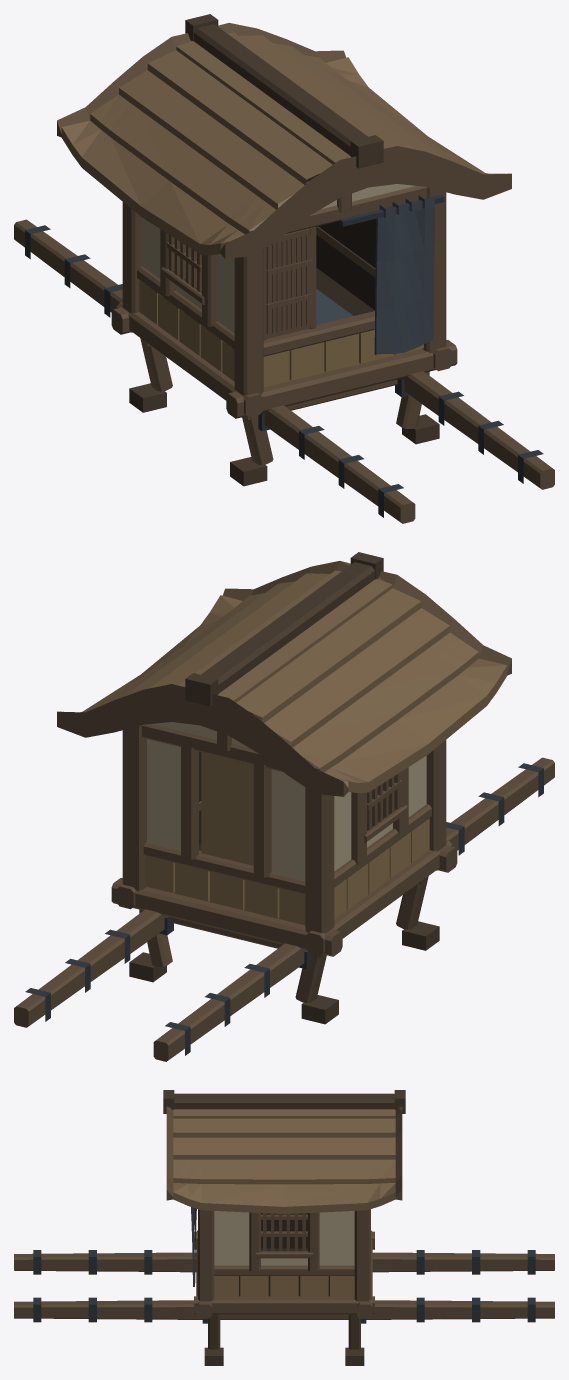
The model's file is kago-palanquin-f1b341.glb.
3 views of the same model, one above another, from view 1: azimuth 30°, elevation 25°; view 2: azimuth 150°, elevation 25°; view 3: azimuth 270°, elevation 25° (orthographic). The views are drawn at different scales.
Parts seen in each view (by area): view 1: kago-body, curtain-mesh, screen-mesh; view 2: kago-body; view 3: kago-body, curtain-mesh.
Boxes of the visible parts, <box> form: kago-body: <box>14,14,554,523</box>; curtain-mesh: <box>374,195,436,354</box>; screen-mesh: <box>263,227,316,340</box>; kago-body: <box>14,552,554,1061</box>; kago-body: <box>14,1090,554,1365</box>; curtain-mesh: <box>191,1207,196,1286</box>.
Bounding box in the file's own units: 1.5 × 1.7 × 3.5.
